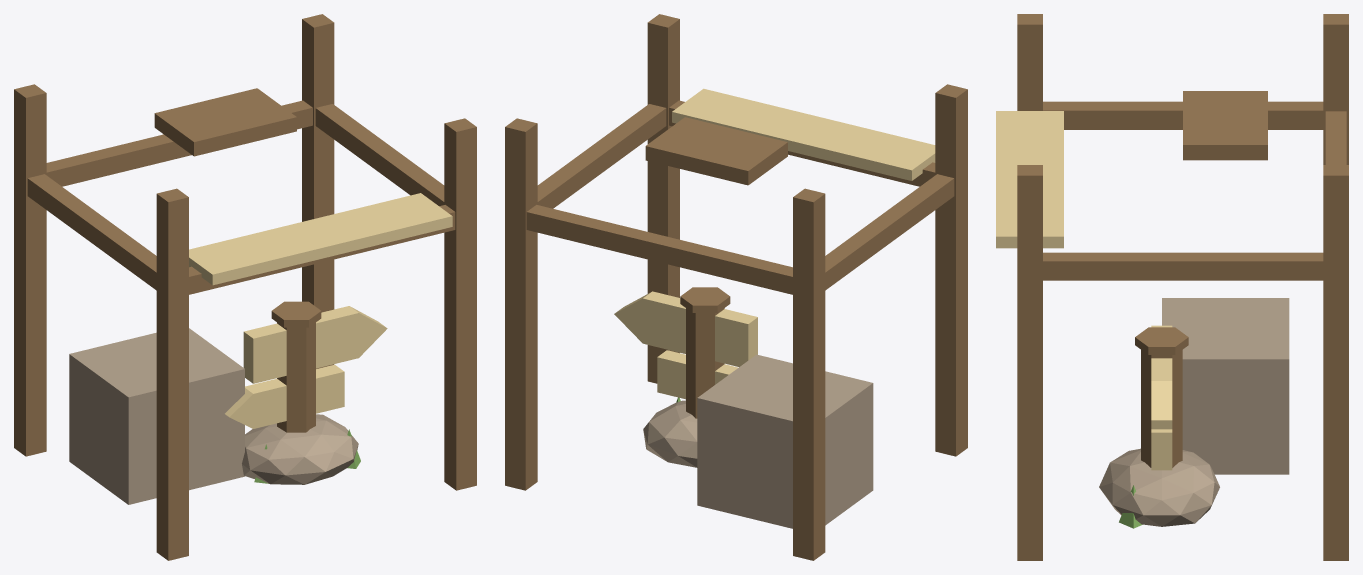
The model's file is meadow-scaffold.glb.
3 renders of one model, left to right at view 1: azimuth 30°, elevation 25°; view 2: azimuth 150°, elevation 25°; view 3: azimuth 270°, elevation 25°, orthographic. The views are drawn at different scales.
Visible parts, largest first — view 1: meadow-scaffold; view 2: meadow-scaffold; view 3: meadow-scaffold.
Boxes of the visible parts, x1,y1,x2,y2 form: meadow-scaffold: [14, 14, 476, 560]; meadow-scaffold: [505, 14, 967, 560]; meadow-scaffold: [996, 14, 1348, 560].
Bounding box in the file's own units: 0.9 × 1 × 0.83.
